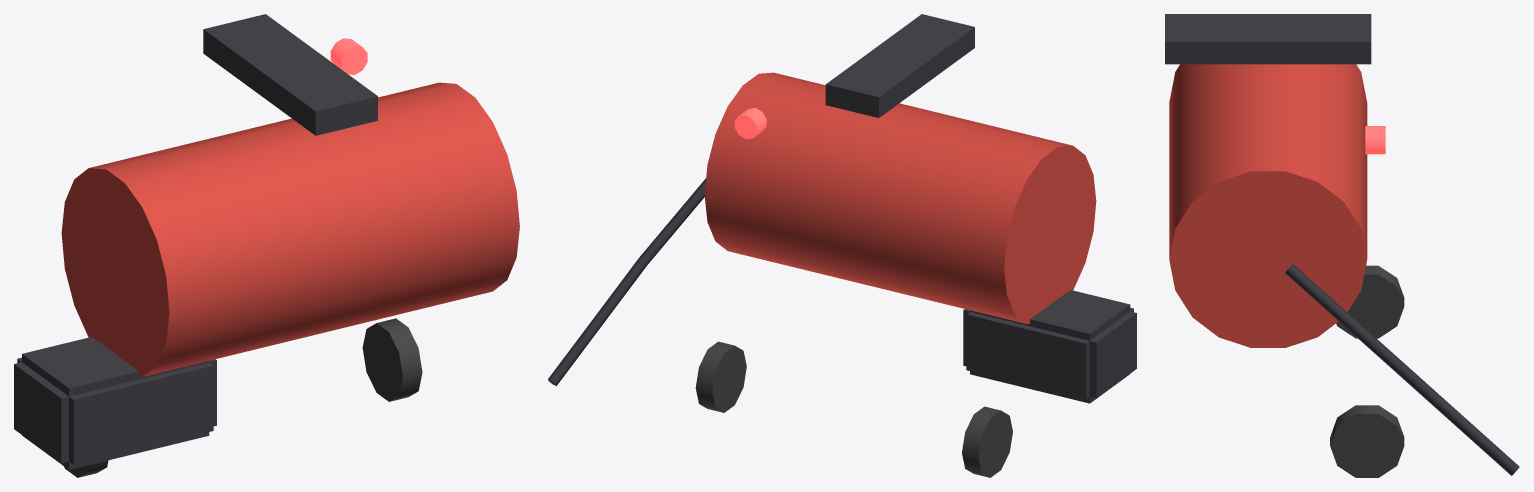
The model's file is air_compressor.glb.
The picture shows the model from 3 angles, left to right: view 1: azimuth 30°, elevation 25°; view 2: azimuth 150°, elevation 25°; view 3: azimuth 270°, elevation 25°; orthographic projection. The views are drawn at different scales.
Parts seen in each view (by area): view 1: air_compressor; view 2: air_compressor; view 3: air_compressor.
Boxes of the visible parts, left/top/right/bottom form: air_compressor: left=14, top=14, right=519, bottom=477; air_compressor: left=548, top=14, right=1136, bottom=477; air_compressor: left=1165, top=14, right=1519, bottom=477.
Bounding box in the file's own units: 1.36 × 1.01 × 0.86.
